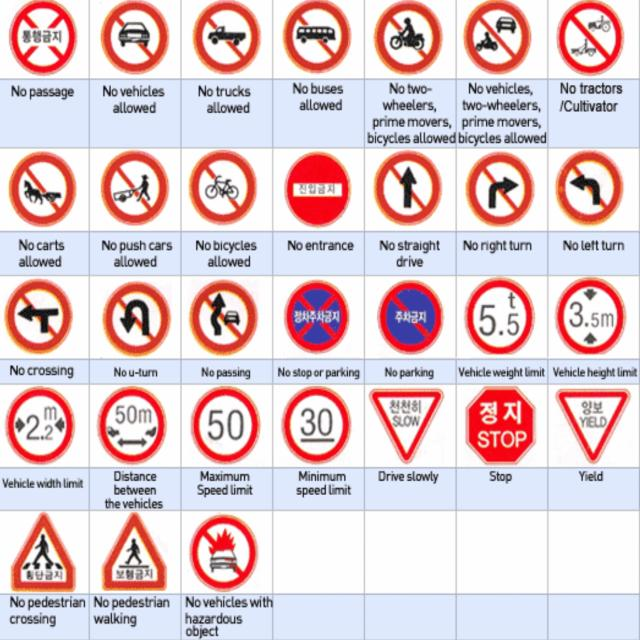regulatory_Distance_between_the_vehicles: (96, 388, 170, 462)
regulatory_Drive_slowly: (367, 384, 449, 466)
regulatory_Maximum_Speed_limit: (188, 385, 264, 465)
regulatory_Minimum_speed_limit: (280, 385, 354, 467)
regulatory_No_bicycles_allowed: (187, 150, 264, 227)
regulatory_No_buses_allowed: (280, 0, 355, 75)
regulatory_No_carts_allowed: (5, 150, 80, 228)
regulatory_No_crossing: (2, 278, 76, 355)
regulatory_No_entrance: (278, 149, 357, 229)
regulatory_No_left_turn: (554, 151, 628, 227)
regulatory_No_parking: (376, 280, 450, 355)
regulatory_No_passage: (7, 0, 82, 77)
regulatory_No_passing: (186, 277, 262, 357)
regulatory_No_pedestrian_crossing: (9, 512, 78, 592)
regulatory_No_pedestrian_walking: (98, 512, 170, 592)
regulatory_No_push_cars_allowed: (97, 149, 174, 229)
regulatory_No_right_turn: (463, 150, 539, 228)
regulatory_No_stop_or_parking: (278, 278, 354, 356)
regulatory_No_straight_drive: (371, 150, 449, 228)
regulatory_No_tractors-Cultivator: (555, 0, 630, 77)
regulatory_No_trucks_allowed: (191, 0, 263, 75)
regulatory_No_two-wheelers-prime_movers-bicycles_allowed: (369, 0, 448, 77)
regulatory_No_u-turn: (99, 279, 174, 356)
regulatory_No_vehicles-two-wheelers-prime_movers-bicycles_allowed: (462, 0, 536, 76)
regulatory_No_vehicles_allowed: (97, 0, 173, 75)
regulatory_No_vehicles_with_hazardous_object: (187, 513, 262, 593)
regulatory_Stop: (461, 384, 540, 465)
regulatory_Vehicle_height_limit: (552, 276, 628, 356)
regulatory_Vehicle_weight_limit: (461, 277, 536, 356)
regulatory_Vehicle_width_limit: (5, 384, 78, 466)
regulatory_Yield: (554, 386, 632, 464)
